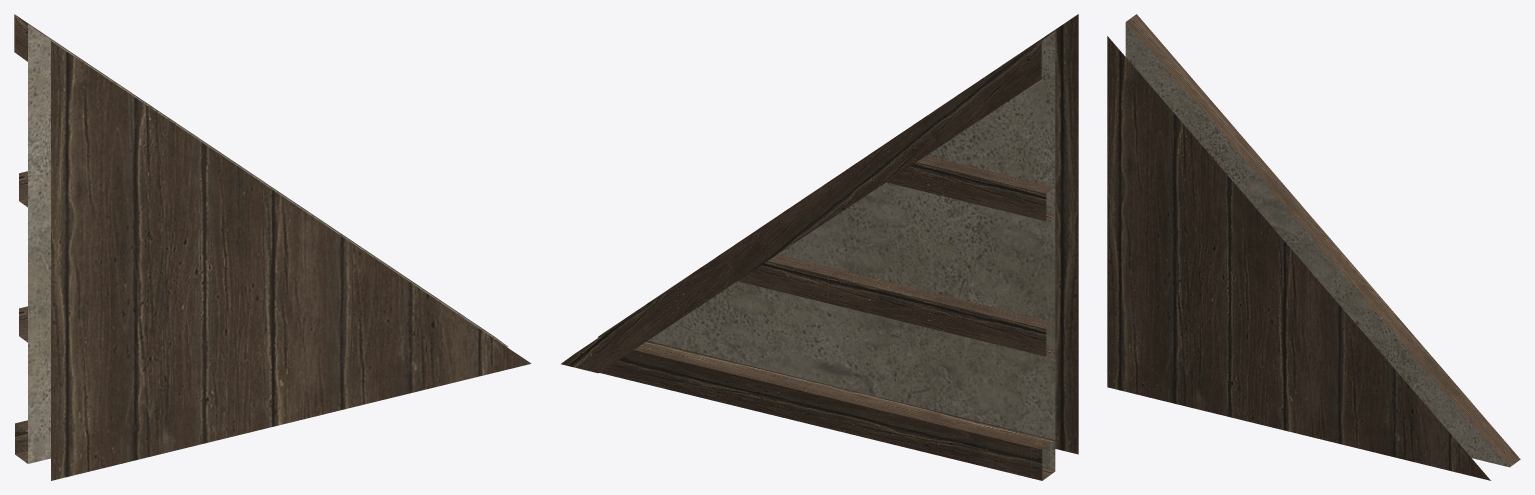
Rendered from ARC1010303.fbx.
3 renders of one model, left to right at view 1: azimuth 30°, elevation 25°; view 2: azimuth 150°, elevation 25°; view 3: azimuth 330°, elevation 25°, orthographic. The views are drawn at different scales.
Parts seen in each view (by area): view 1: smARC1010303; view 2: smARC1010303; view 3: smARC1010303.
Part boxes in pixels (left/top/right/bottom): smARC1010303: left=14, top=14, right=531, bottom=480; smARC1010303: left=561, top=14, right=1078, bottom=480; smARC1010303: left=1107, top=14, right=1520, bottom=480.
Size of the model in its own units: 268 by 235 by 35.62.
1 material, 1 textured.
